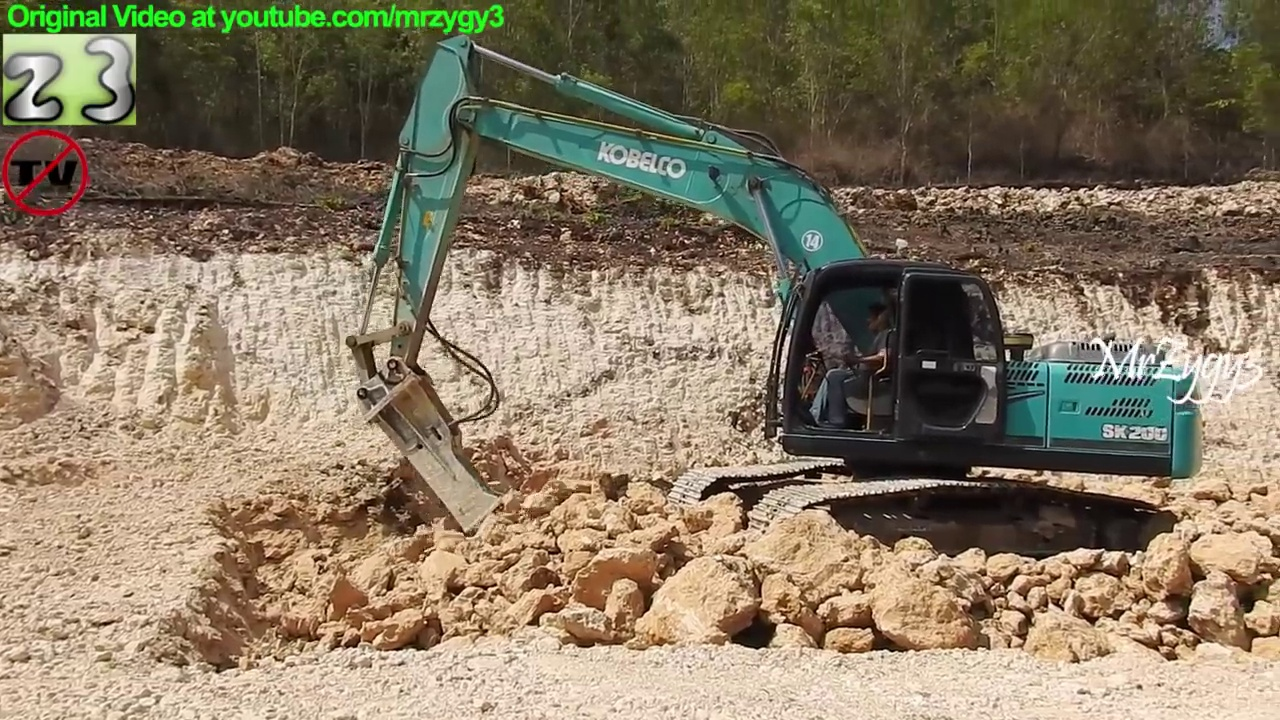excavator breaker: (341, 37, 1207, 571)
